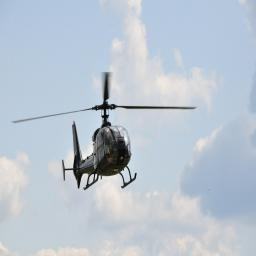helicopter: (20, 74, 197, 189)
